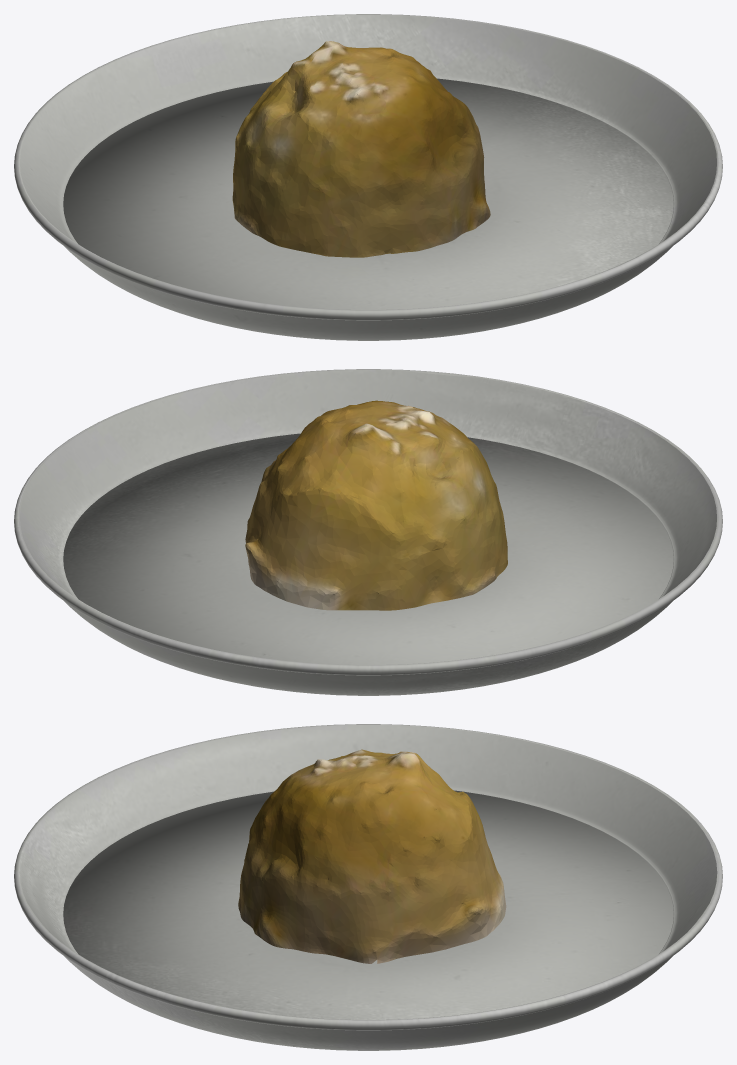
File: Knedle2.glb
3 views of the same model, one above another, from view 1: azimuth 30°, elevation 25°; view 2: azimuth 150°, elevation 25°; view 3: azimuth 270°, elevation 25° (orthographic).
Visible parts, largest first — view 1: Circle.001; view 2: Circle.001; view 3: Circle.001.
Boxes of the visible parts, box(x1,y1,x2,y2) form: Circle.001: box(14, 14, 722, 340); Circle.001: box(14, 369, 722, 695); Circle.001: box(14, 724, 722, 1050).
Bounding box in the file's own units: 0.2833 × 0.0746 × 0.2835.
2 materials, 2 textured.
